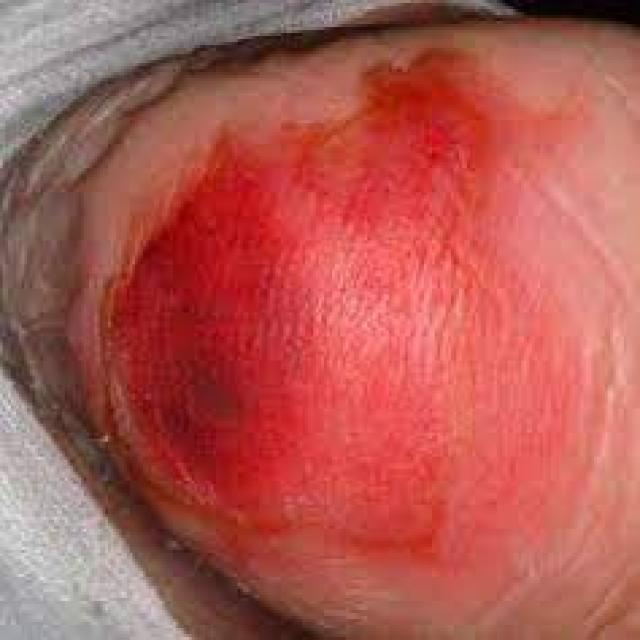DTI: (96, 45, 576, 580)
